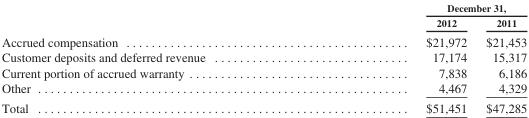table: (1, 1, 526, 114)
table column: (1, 1, 315, 114), (315, 1, 475, 114), (475, 1, 526, 114)
table column header: (1, 1, 526, 31)
table row: (1, 31, 526, 49), (1, 79, 526, 97), (1, 14, 526, 31), (1, 97, 526, 114), (1, 49, 526, 64), (1, 64, 526, 79), (1, 1, 526, 14)
table spanning cell: (315, 1, 526, 14)
